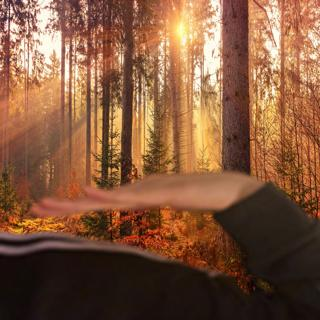Wait: (23, 163, 263, 223)
